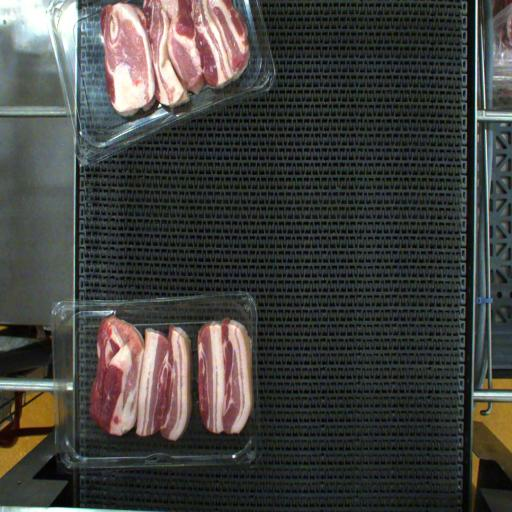loose-meat: (190, 318, 257, 442)
